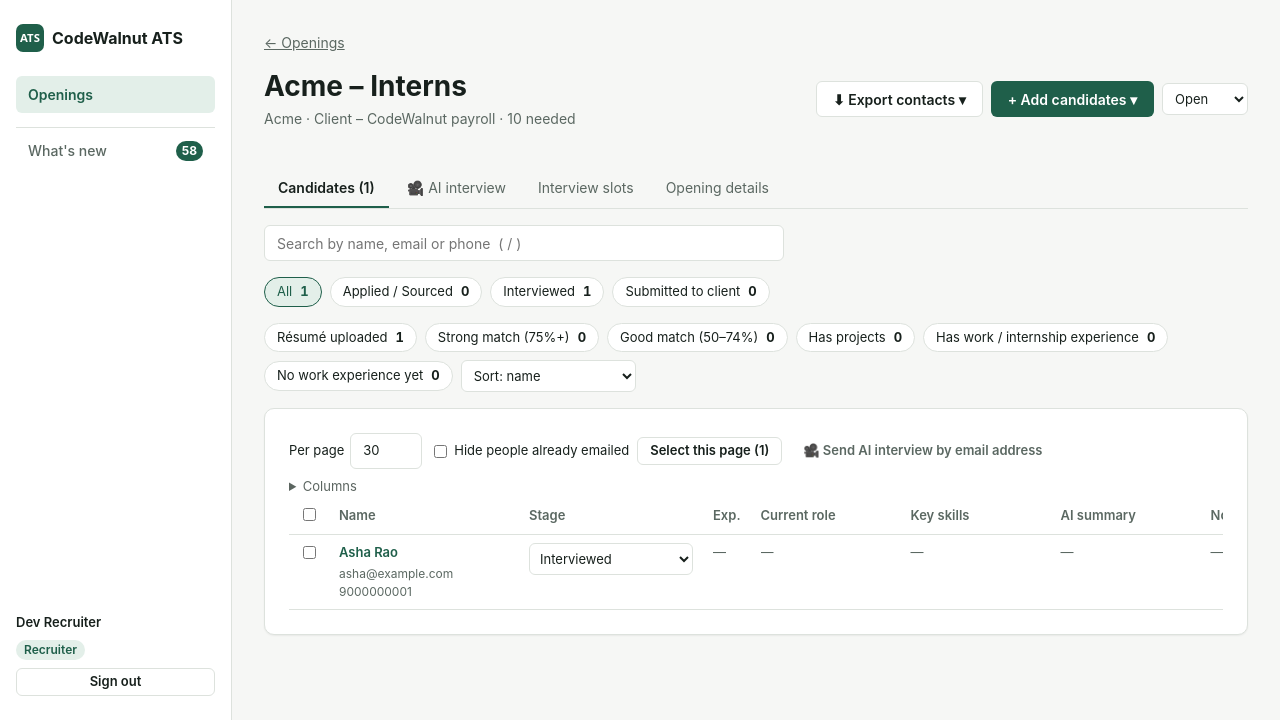
JobDetailPage › combines search with the stage filter and offers to clear
Type "nobody" into the search field named "Search candidates in this opening" at (524, 243), box 264,225 -> 784,261
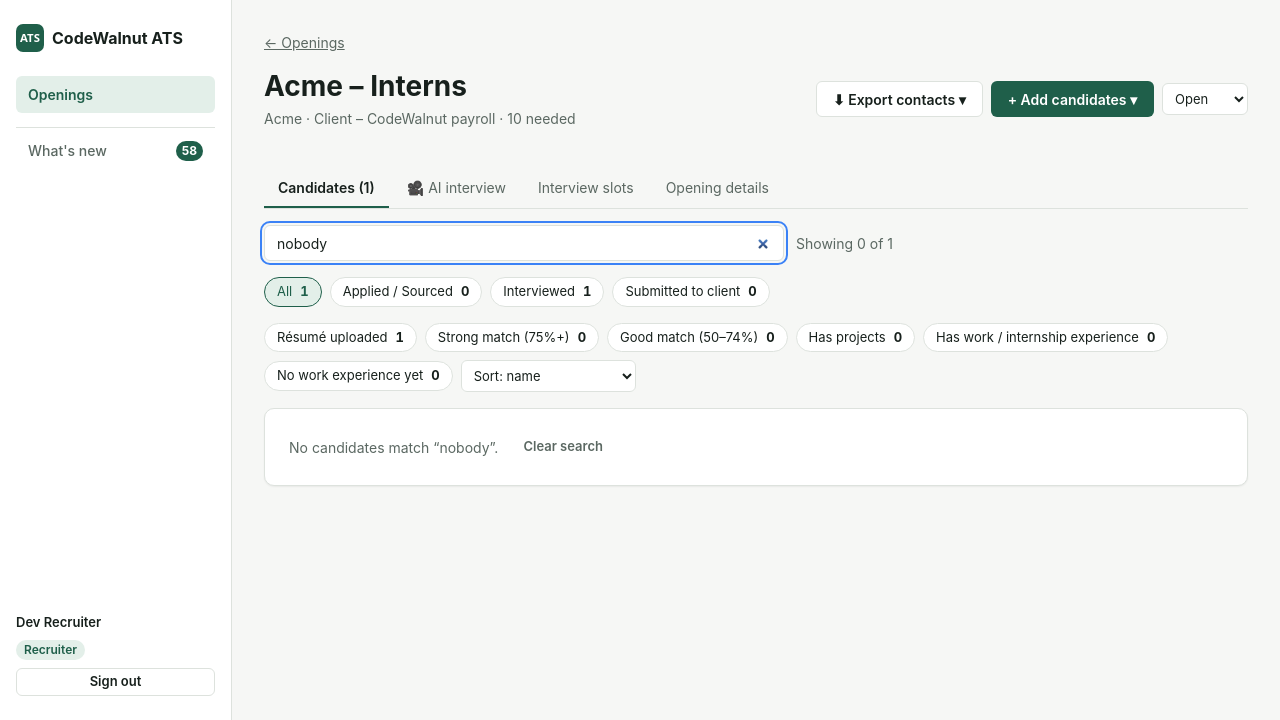
Now the text "No candidates match “nobody”." is shown, box 289,436 -> 498,458
Click the button "Clear search" at (563, 447), box 510,433 -> 616,461
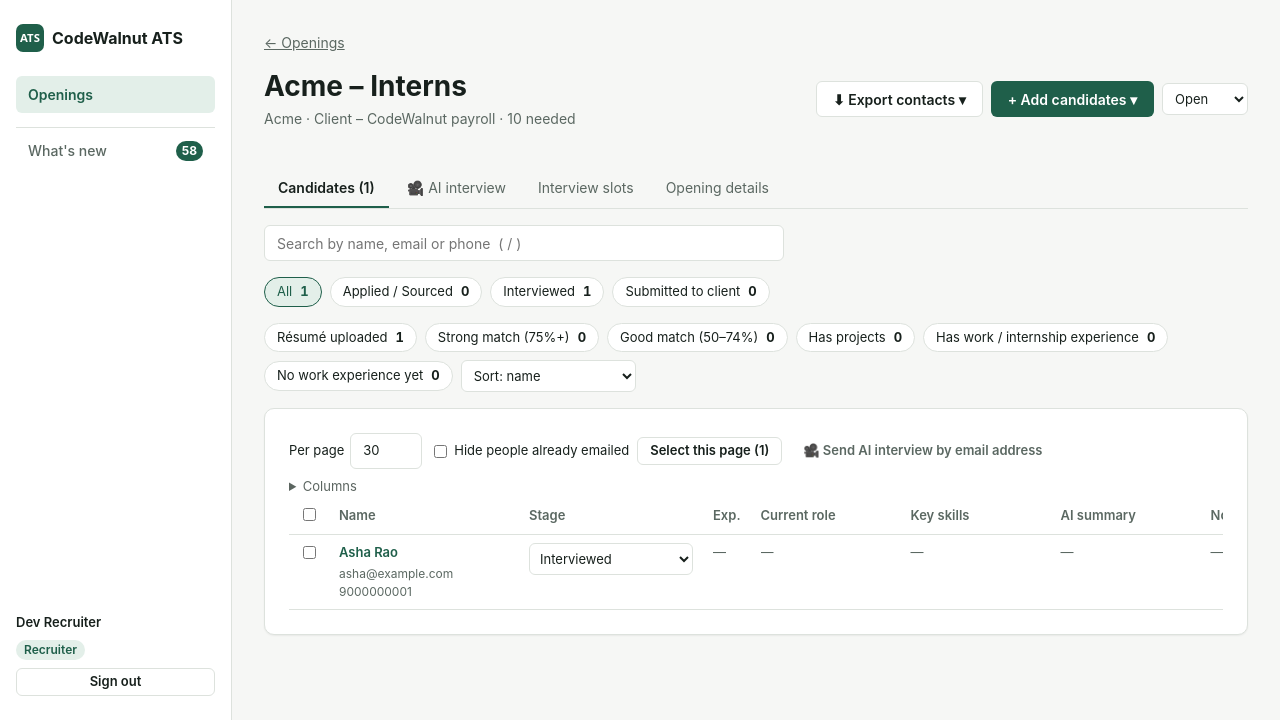
Now the button "Asha Rao" is shown, box 339,543 -> 398,562
